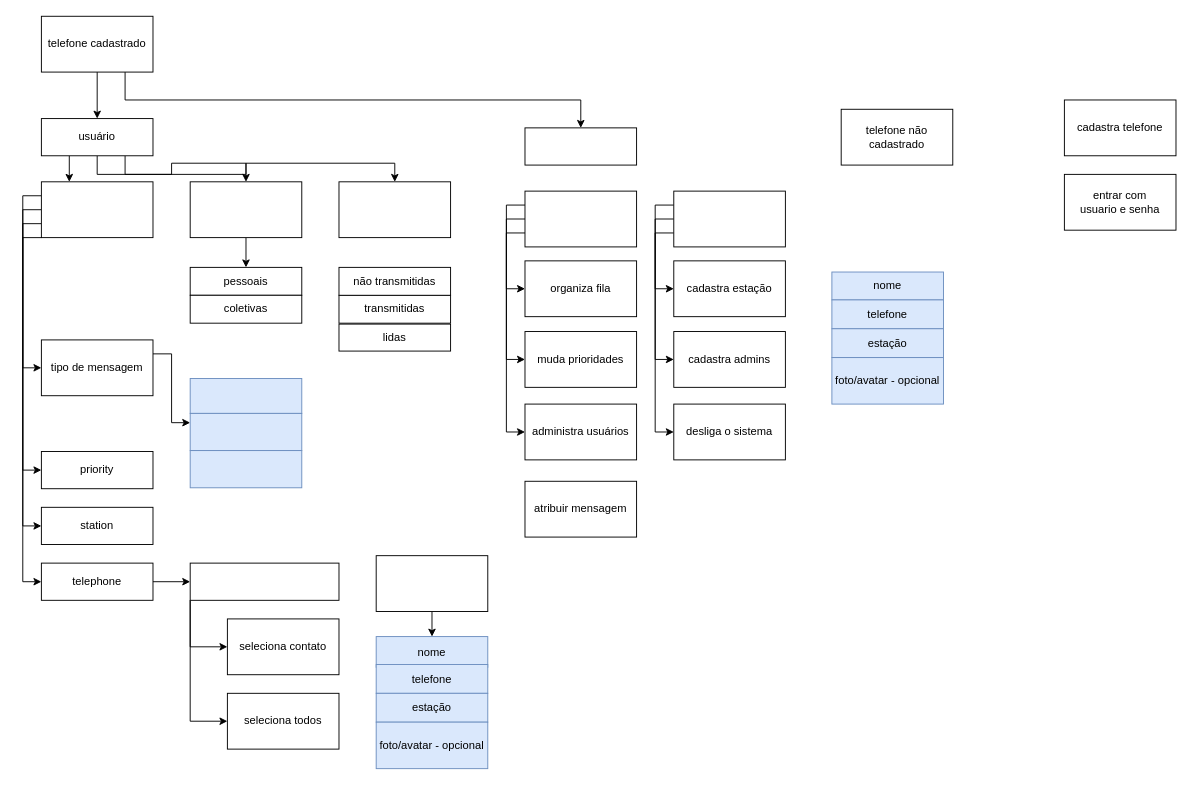
The diagram is 1192 pixels wide and 785 high, and some of its shapes have lost their labels. Each missing label, with the centre of its shape:
"abre lista de contatos" goes at point 264,581.
"admin" goes at point 580,146.
"agenda" goes at point 431,583.
"audio" goes at point 245,469.
"fila de transmissão" goes at point 580,218.
"imagem" goes at point 245,431.
"mandar mensagem" goes at point 96,209.
"mensagens enviadas" goes at point 394,209.
"mensagens recebidas" goes at point 245,209.
"sistema" goes at point 729,218.
"texto" goes at point 245,395.
